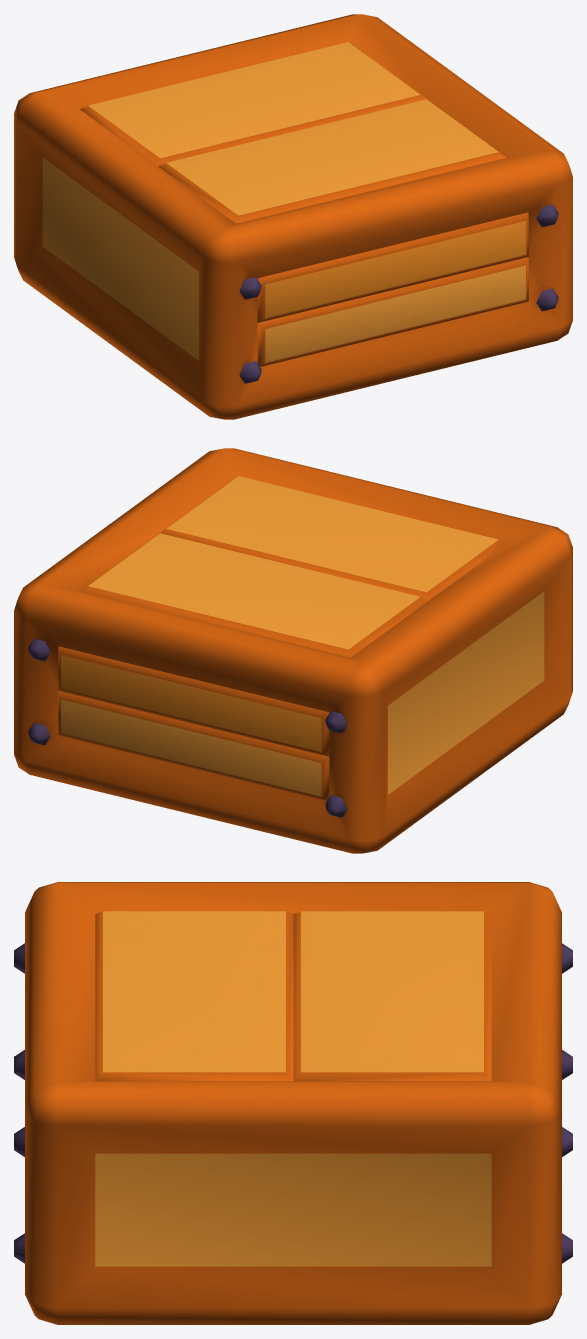
Rendered from kalas1.glb.
3 renders of one model, top to bottom at view 1: azimuth 30°, elevation 25°; view 2: azimuth 150°, elevation 25°; view 3: azimuth 270°, elevation 25°, orthographic. The views are drawn at different scales.
Visible parts, largest first — view 1: kalas1; view 2: kalas1; view 3: kalas1.
Part boxes in pixels (<box>): kalas1: <box>14,14,572,419</box>; kalas1: <box>14,448,572,853</box>; kalas1: <box>14,882,572,1324</box>.
Size of the model in its own units: 1.53 by 0.7595 by 1.6.
1 material, 1 textured.
